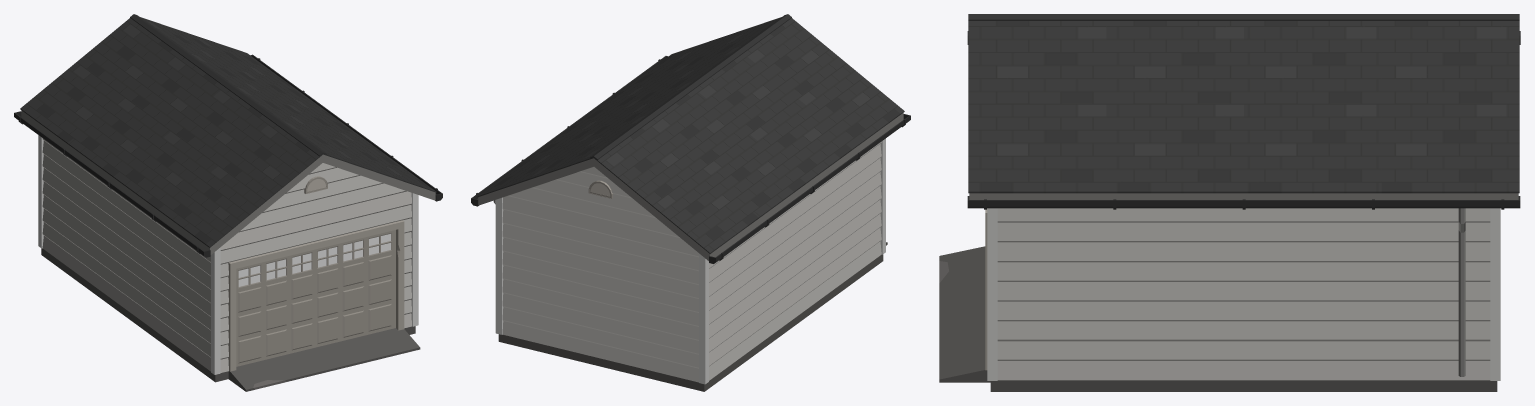
The model's file is SM_Bldg_Suburb_Garage.fbx.
3 views of the same model, side by side, from view 1: azimuth 30°, elevation 25°; view 2: azimuth 150°, elevation 25°; view 3: azimuth 270°, elevation 25° (orthographic). The views are drawn at different scales.
Parts seen in each view (by area): view 1: SM_Bldg_Suburb_Garage, SM_Bldg_Suburb_Garage_Door; view 2: SM_Bldg_Suburb_Garage; view 3: SM_Bldg_Suburb_Garage.
Part boxes in pixels (x1,y1,x2,y2): SM_Bldg_Suburb_Garage: [14, 14, 442, 391]; SM_Bldg_Suburb_Garage_Door: [236, 230, 395, 366]; SM_Bldg_Suburb_Garage: [471, 14, 910, 391]; SM_Bldg_Suburb_Garage: [939, 14, 1520, 391].
Bounding box in the file's own units: 594 × 498 × 854.
